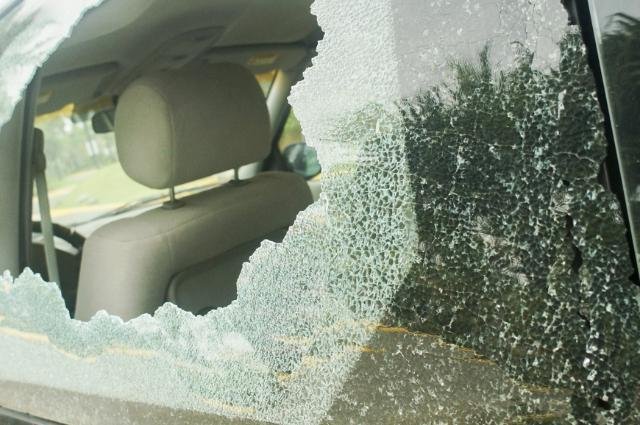Door: (0, 11, 614, 425)
